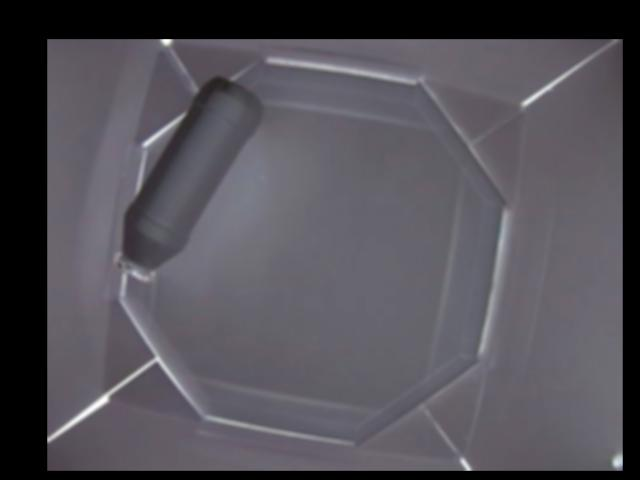Bottle: (114, 76, 264, 286)
